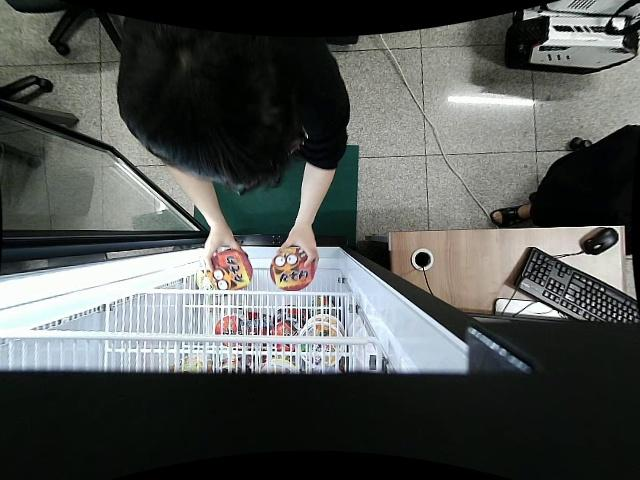00_hand: (201, 221, 249, 273), (279, 227, 319, 273)
05_nuguri_L: (270, 245, 315, 292), (209, 248, 253, 292)
